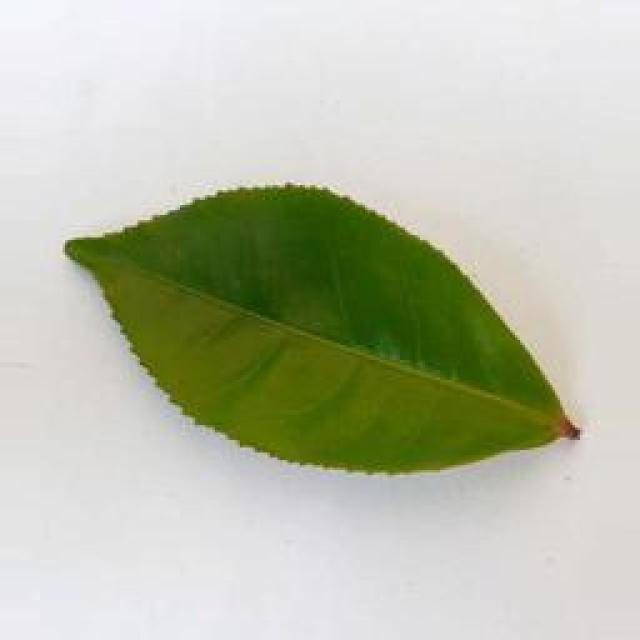Healthy: (64, 172, 584, 475)
